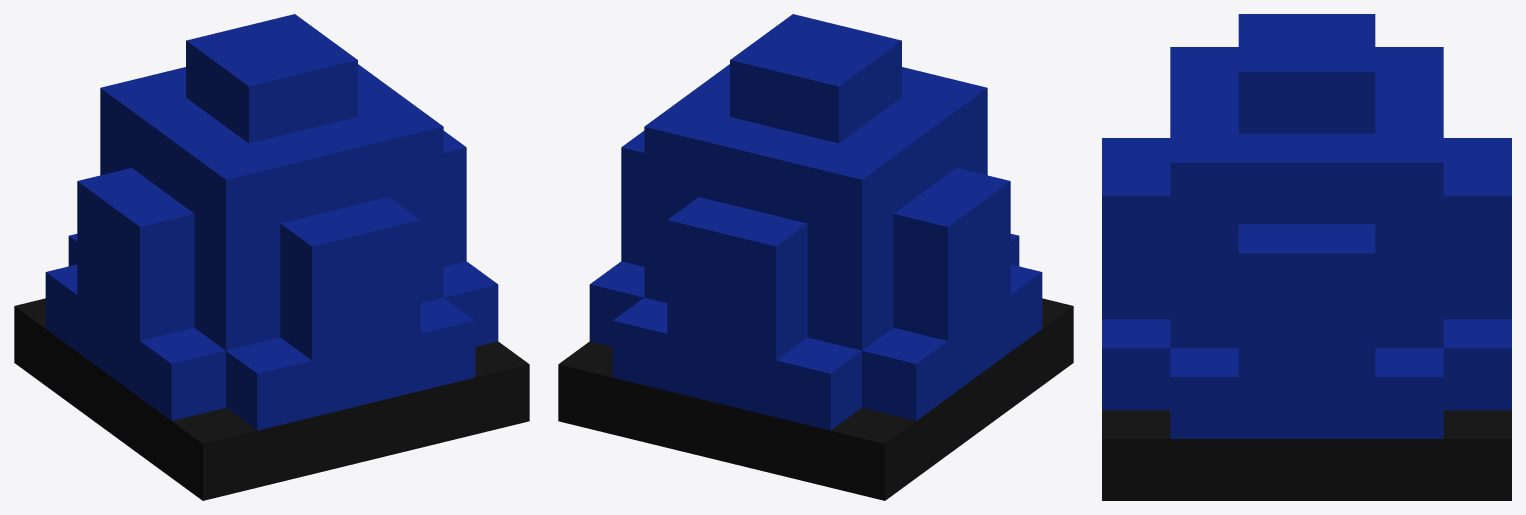
File: beacon_blue.glb
3 renders of one model, left to right at view 1: azimuth 30°, elevation 25°; view 2: azimuth 150°, elevation 25°; view 3: azimuth 270°, elevation 25°, orthographic. The views are drawn at different scales.
Visible parts, largest first — view 1: body:compound; view 2: body:compound; view 3: body:compound.
Boxes of the visible parts, x1,y1,x2,y2 form: body:compound: (14,14,529,500); body:compound: (558,14,1073,500); body:compound: (1102,14,1511,500).
Bounding box in the file's own units: 0.1875 × 0.1875 × 0.1875.
